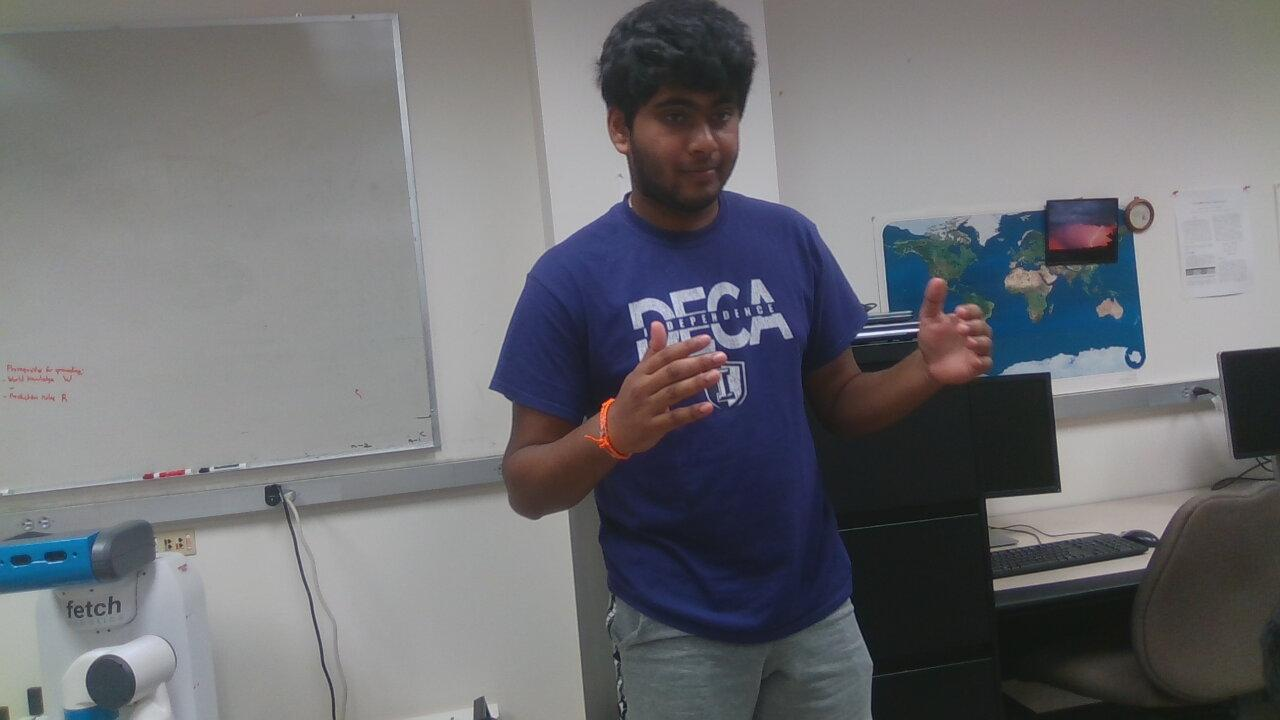hands: (596, 307, 730, 460), (896, 267, 1007, 393)
